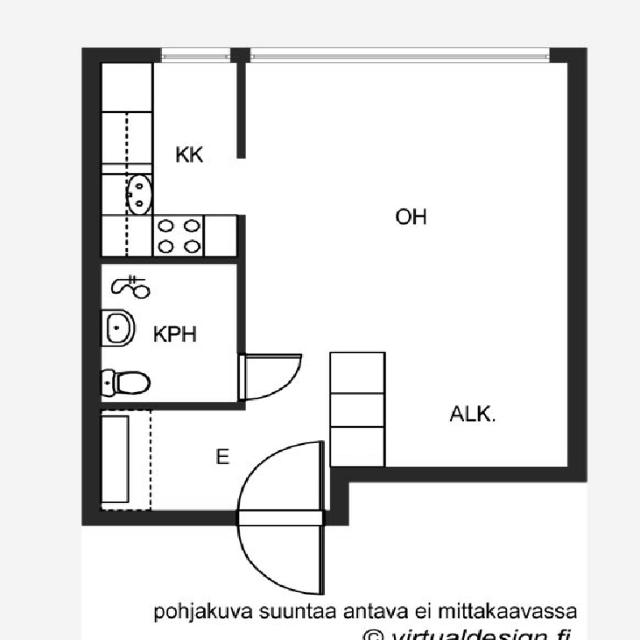door: (231, 524, 327, 596), (240, 437, 327, 510), (237, 352, 304, 405)
window: (154, 44, 238, 66)
zone: (240, 59, 569, 480), (233, 53, 564, 358), (93, 54, 244, 260), (92, 262, 242, 404), (91, 408, 243, 517)
